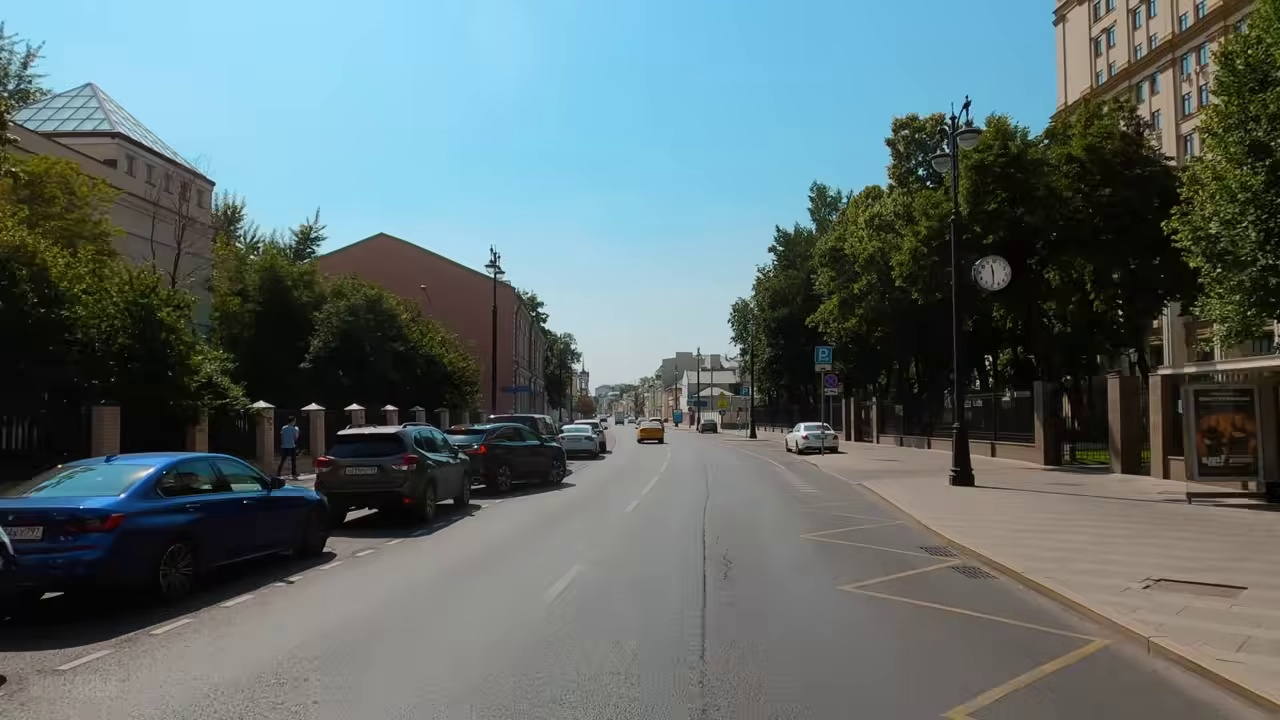apagada: (936, 114, 976, 179)
